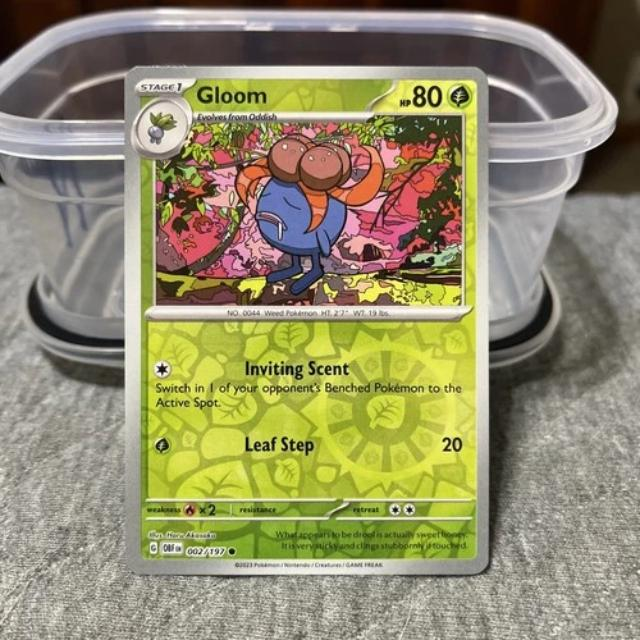Card: (118, 59, 498, 575)
Name: (192, 78, 270, 109)
